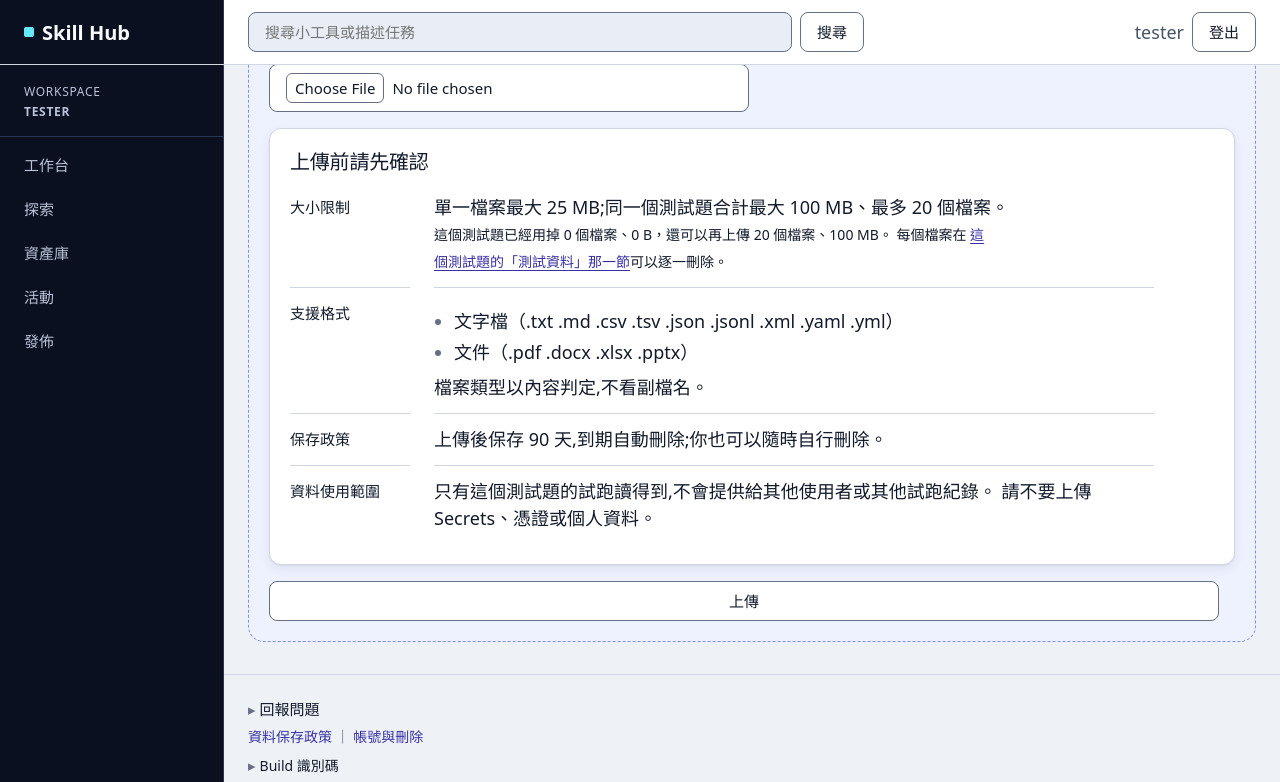
Test: a server upload error reports an unconfirmed outcome
This screenshot has width=1280, height=782.
(page scrolled)
Click the button "上傳" at [744, 600], box [269, 580, 1219, 620]
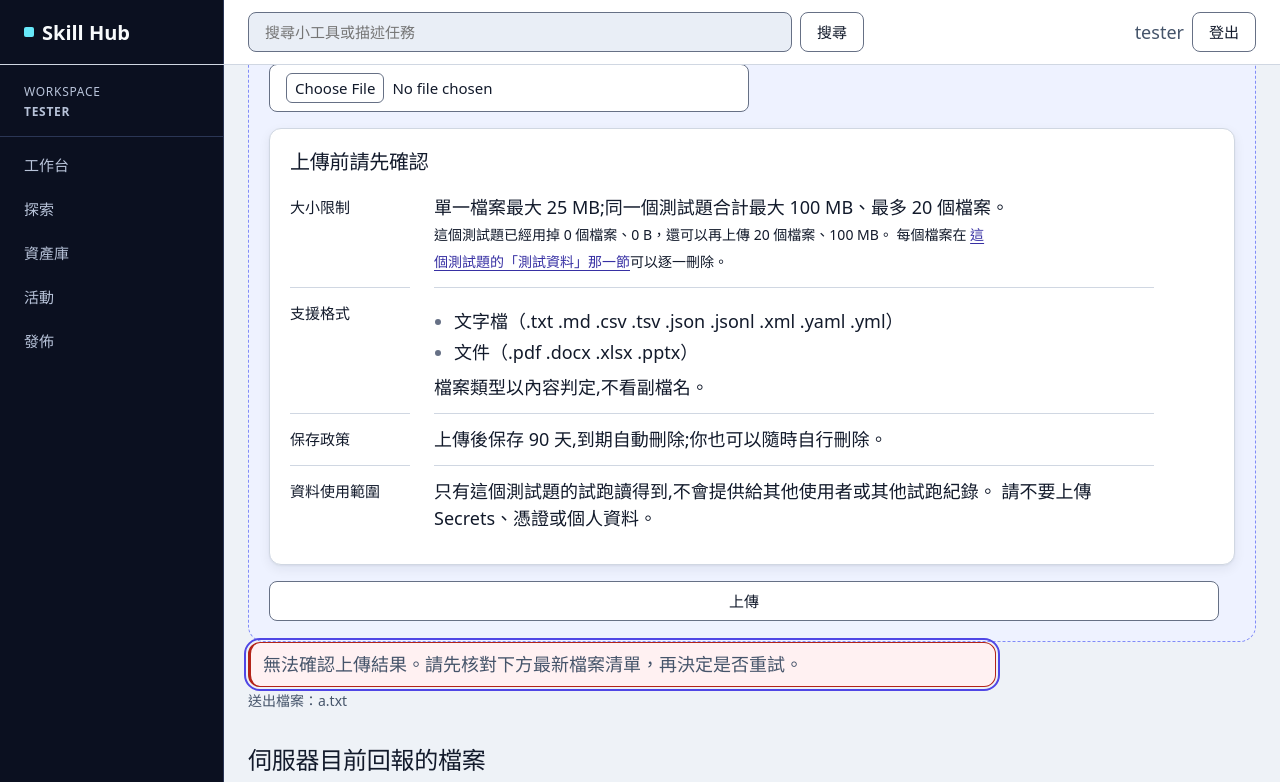
Expected: the text "無法確認上傳結果。" is shown, [263, 652, 803, 676]
